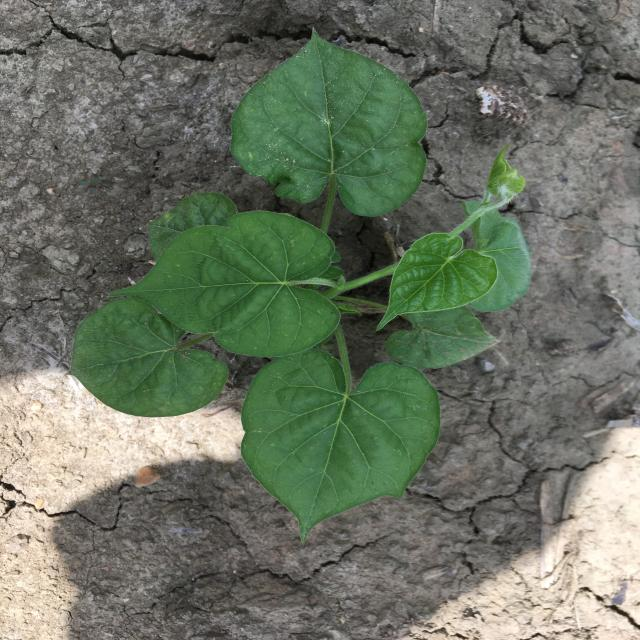MorningGlory: (64, 29, 534, 544)
